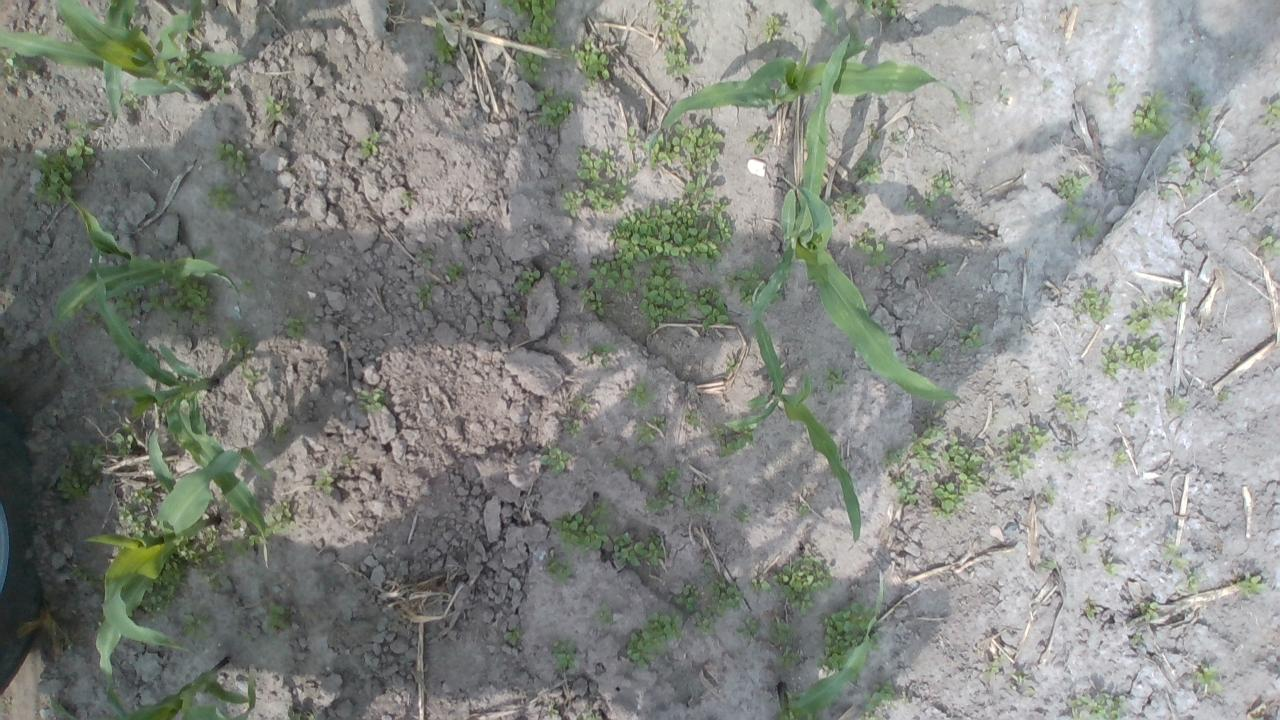Maize: (742, 30, 965, 408), (83, 244, 273, 568), (80, 428, 274, 719), (648, 43, 972, 163), (46, 191, 240, 366), (725, 310, 863, 548), (0, 0, 246, 99), (771, 570, 882, 720), (50, 658, 256, 720), (102, 0, 174, 117), (754, 0, 840, 34)
Weeds: (606, 197, 732, 276), (557, 146, 639, 220), (816, 602, 881, 682), (25, 136, 96, 206), (638, 258, 698, 330), (644, 122, 724, 172), (773, 552, 834, 617), (144, 274, 217, 326), (577, 257, 639, 318), (176, 524, 232, 590), (624, 612, 684, 672), (138, 554, 190, 622), (54, 440, 108, 504), (1121, 284, 1187, 336), (550, 500, 612, 555), (720, 258, 782, 310), (653, 0, 692, 78), (500, 0, 560, 49), (1098, 336, 1162, 380), (177, 50, 230, 99), (562, 38, 612, 88), (909, 407, 946, 474), (941, 437, 983, 492), (1128, 90, 1172, 142), (115, 486, 158, 539), (996, 430, 1036, 480), (612, 530, 664, 568), (1068, 687, 1127, 720), (642, 466, 682, 514), (694, 282, 731, 333), (708, 423, 758, 459), (534, 84, 574, 128), (1184, 83, 1214, 138), (1072, 284, 1112, 324), (850, 228, 891, 267), (702, 578, 744, 616), (1184, 139, 1224, 177), (929, 479, 966, 520), (0, 47, 40, 84), (212, 138, 250, 175), (262, 502, 298, 537), (682, 485, 722, 516), (203, 180, 240, 213), (216, 491, 247, 530), (539, 443, 572, 479), (1053, 388, 1089, 421), (220, 322, 257, 354), (226, 357, 262, 389), (180, 611, 216, 642), (850, 154, 884, 186), (1190, 662, 1224, 694), (514, 49, 546, 82), (431, 22, 456, 64), (548, 634, 577, 670), (849, 0, 901, 20), (582, 340, 616, 370), (282, 310, 316, 340), (262, 600, 291, 635), (262, 93, 292, 126), (112, 288, 142, 320), (1056, 172, 1090, 200), (685, 172, 716, 202), (837, 192, 868, 222), (894, 470, 919, 507), (70, 563, 106, 588), (634, 414, 665, 443), (1162, 538, 1190, 570), (1174, 570, 1208, 596), (1236, 570, 1266, 599), (626, 378, 655, 408), (232, 533, 264, 560), (355, 388, 388, 414), (775, 645, 805, 673), (548, 257, 576, 285), (955, 324, 984, 350), (674, 582, 699, 612), (981, 652, 1006, 682), (546, 556, 572, 584), (760, 13, 785, 42), (1102, 73, 1123, 107), (514, 268, 541, 294), (1025, 423, 1050, 451), (769, 616, 794, 644), (312, 467, 336, 496), (420, 70, 446, 96), (872, 679, 898, 705), (881, 445, 908, 470), (1259, 97, 1280, 129), (694, 610, 717, 638), (180, 18, 203, 46), (359, 132, 382, 160), (922, 257, 949, 280), (413, 281, 433, 312), (822, 366, 846, 391), (930, 172, 954, 197), (1071, 221, 1101, 241), (592, 602, 614, 628), (1164, 393, 1188, 416), (118, 88, 141, 112), (113, 432, 135, 457), (733, 618, 760, 638), (504, 622, 526, 646), (1120, 396, 1142, 419), (745, 132, 767, 155), (1259, 233, 1280, 257), (1234, 192, 1256, 214), (1062, 202, 1084, 224), (1182, 174, 1202, 198), (1077, 532, 1098, 554), (61, 119, 96, 132), (620, 125, 638, 150), (444, 260, 466, 280), (750, 572, 772, 592), (729, 505, 750, 525), (1102, 556, 1122, 576), (292, 247, 312, 267), (1139, 600, 1159, 620), (286, 707, 316, 720), (627, 462, 647, 481), (562, 417, 582, 436), (270, 424, 289, 443), (419, 248, 435, 270), (922, 192, 936, 216), (683, 409, 701, 427), (905, 348, 923, 366), (503, 306, 522, 323), (924, 344, 943, 361), (1112, 446, 1128, 466), (1010, 668, 1030, 684), (1043, 483, 1057, 505), (846, 28, 862, 47), (458, 220, 472, 241), (1056, 447, 1072, 463), (611, 452, 627, 468), (83, 311, 100, 326), (572, 398, 590, 412), (886, 131, 904, 145), (724, 358, 738, 376), (1160, 164, 1180, 176), (701, 556, 714, 574), (1084, 601, 1097, 619), (1216, 386, 1230, 402), (238, 276, 254, 290), (797, 502, 811, 518), (1039, 557, 1057, 569), (574, 712, 601, 720), (904, 194, 916, 212), (400, 192, 412, 210), (1106, 505, 1118, 522), (560, 332, 574, 346), (1131, 633, 1144, 645), (0, 696, 8, 715), (1159, 189, 1171, 201), (996, 89, 1010, 99), (822, 196, 836, 206), (242, 632, 254, 643), (862, 714, 884, 720), (448, 12, 463, 20), (121, 422, 131, 432), (1044, 80, 1054, 89), (845, 55, 857, 62), (483, 320, 493, 328), (341, 456, 352, 463), (1252, 716, 1264, 720)
